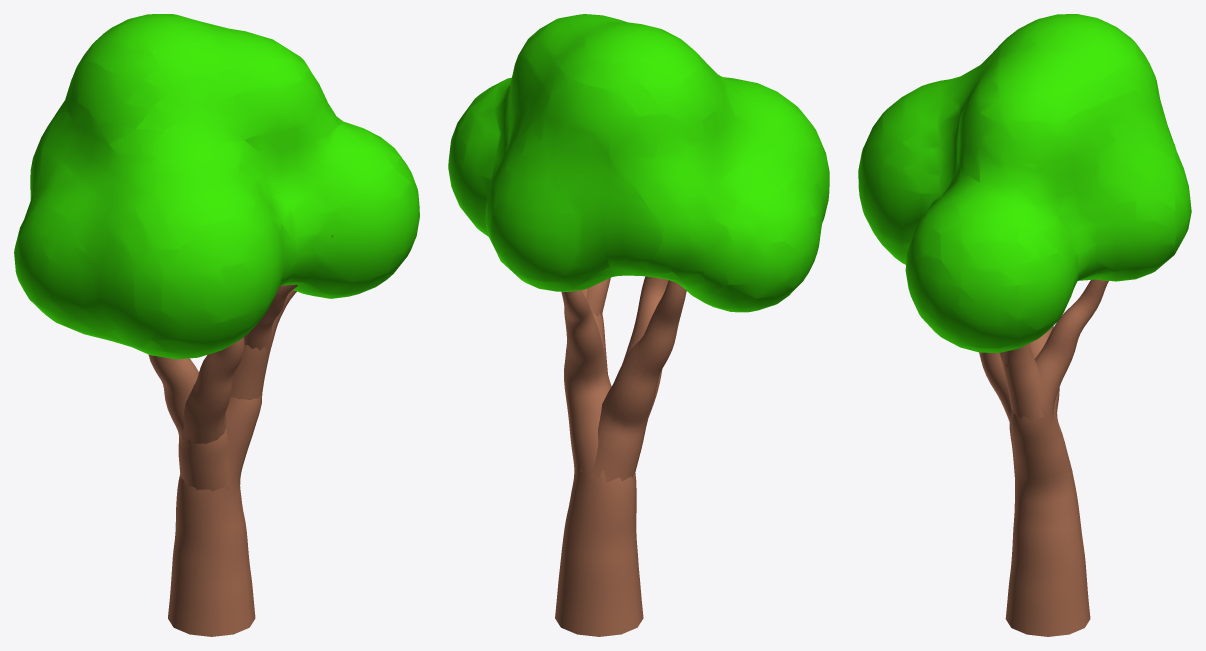
Rendered from Treeremake.fbx.
The picture shows the model from 3 angles, left to right: view 1: azimuth 30°, elevation 25°; view 2: azimuth 150°, elevation 25°; view 3: azimuth 270°, elevation 25°; orthographic projection. The views are drawn at different scales.
Parts seen in each view (by area): view 1: Mball.006, tree; view 2: Mball.006, tree; view 3: Mball.006, tree.
Part boxes in pixels (x1,y1,x2,y2): Mball.006: [14, 14, 419, 359]; tree: [148, 235, 332, 636]; Mball.006: [448, 14, 829, 312]; tree: [555, 276, 686, 636]; Mball.006: [858, 14, 1191, 352]; tree: [979, 279, 1108, 636].
Bounding box in the file's own units: 371 × 584 × 305.
